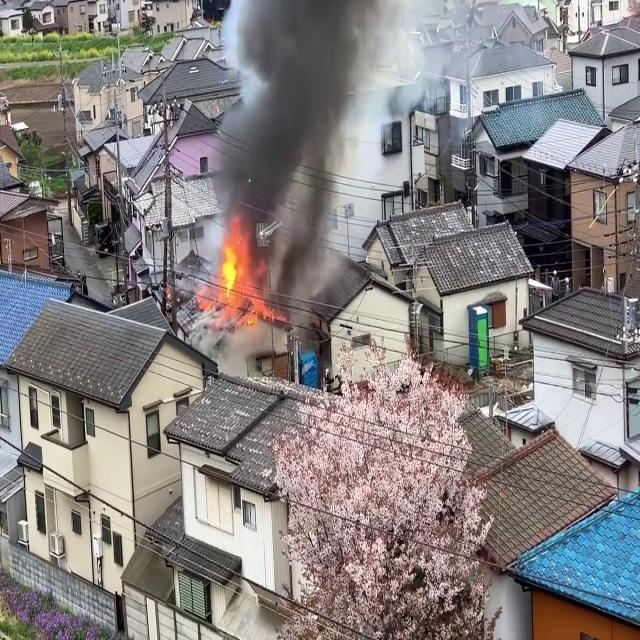Fire: (209, 223, 272, 324)
Smoke: (208, 0, 372, 284)
